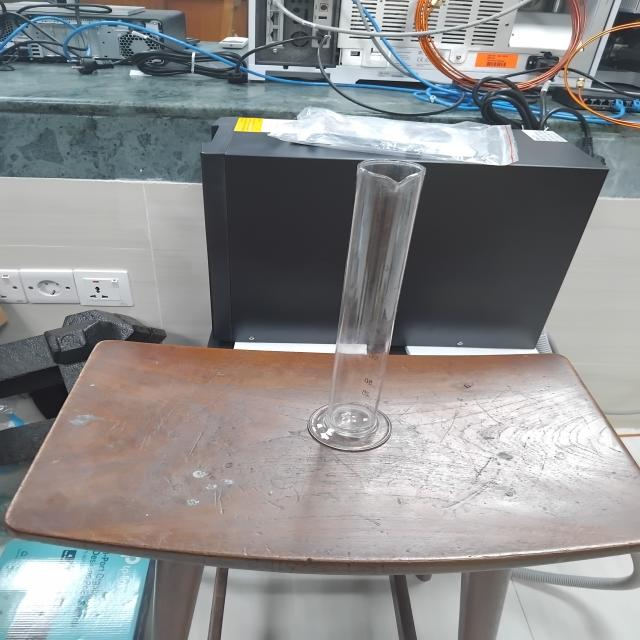Measuring_Cylinder: (290, 114, 450, 470)
